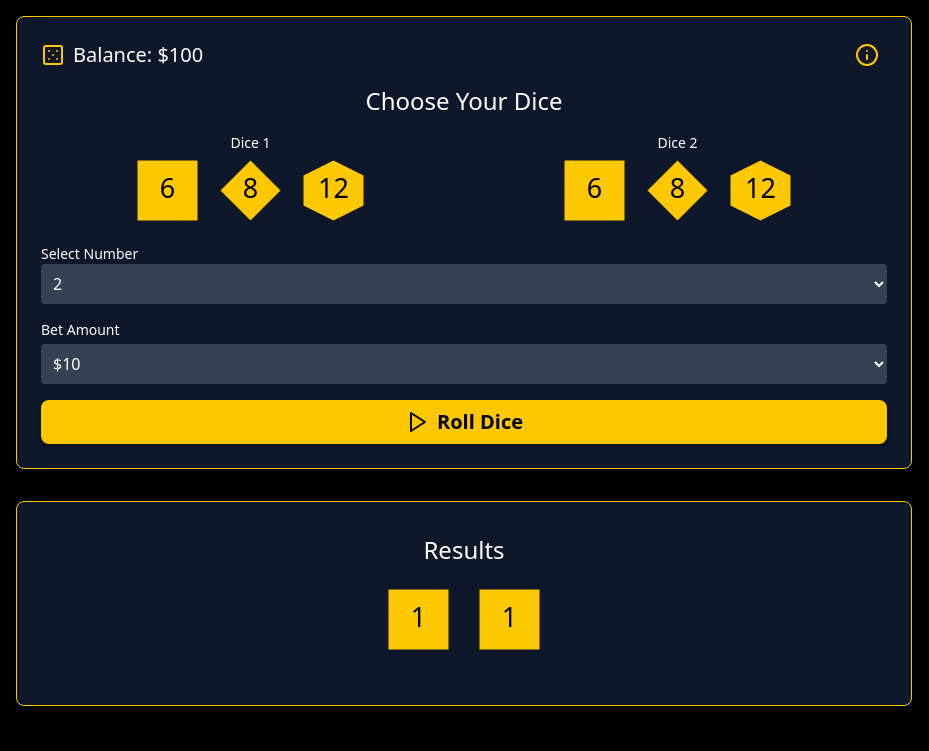
Scenario: DiceGame Component › performs a successful roll
expect the text "Balance: $100" is shown: met, box [73,41,203,69]
Click the button "Roll Dice" at (464, 422), box [41,400,887,444]
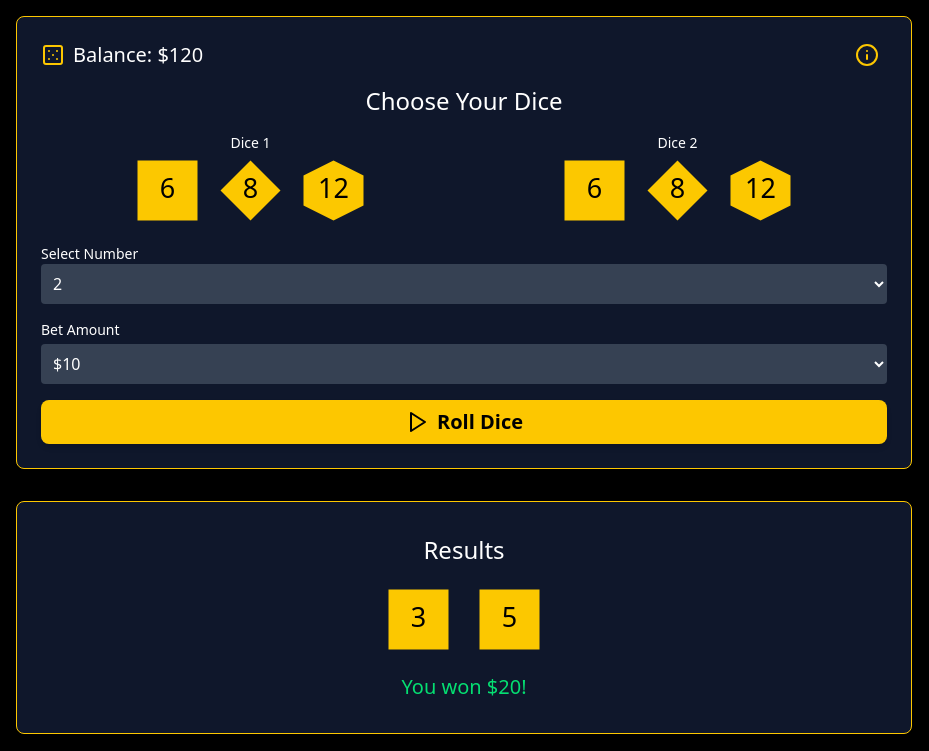
expect the text "Balance: $120" is shown: met, box [73,41,203,69]
expect the text "You won $20!" is shown: met, box [402,673,527,700]
